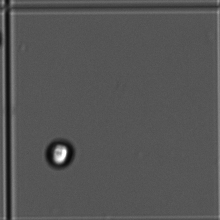Living Cell: (41, 134, 80, 170)
